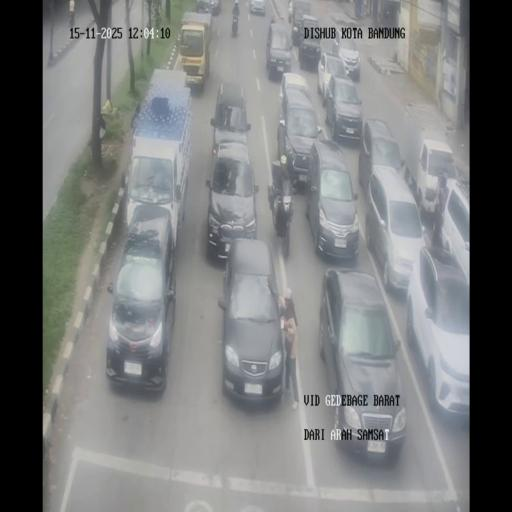car: (320, 269, 404, 460), (106, 204, 178, 390), (406, 246, 469, 426), (218, 239, 285, 406), (366, 165, 424, 294), (205, 138, 259, 262), (307, 139, 360, 263), (277, 73, 320, 188), (210, 81, 251, 160), (360, 118, 400, 190), (178, 12, 213, 94), (322, 74, 364, 142), (330, 26, 361, 81), (265, 19, 293, 79), (296, 15, 323, 70), (196, 0, 220, 16), (250, 0, 266, 15), (288, 0, 293, 22)
truck: (270, 186, 293, 257), (91, 112, 107, 143), (361, 0, 370, 18), (231, 15, 238, 37)
